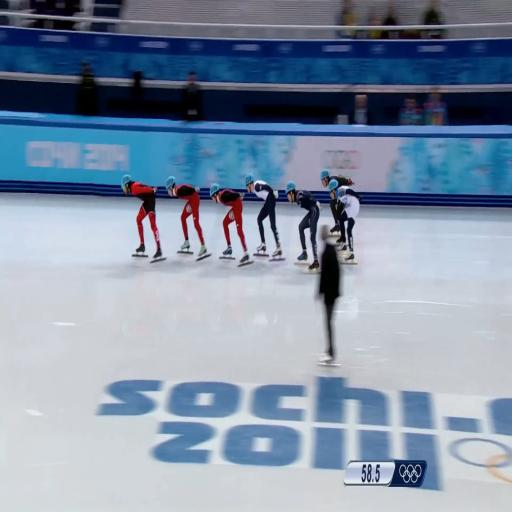Skater: (122, 175, 165, 261), (166, 176, 210, 260), (210, 184, 252, 265), (246, 174, 282, 259), (286, 182, 319, 271), (328, 180, 359, 263), (321, 169, 353, 187)
